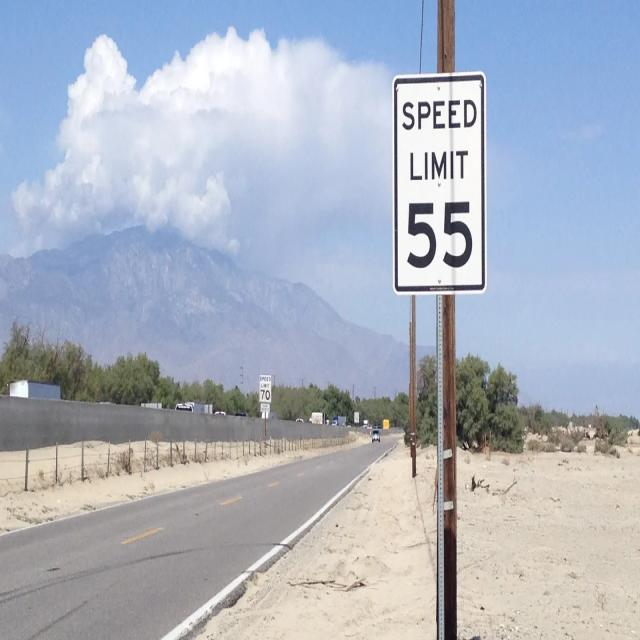Speed Limit Signs: (391, 69, 488, 298)
